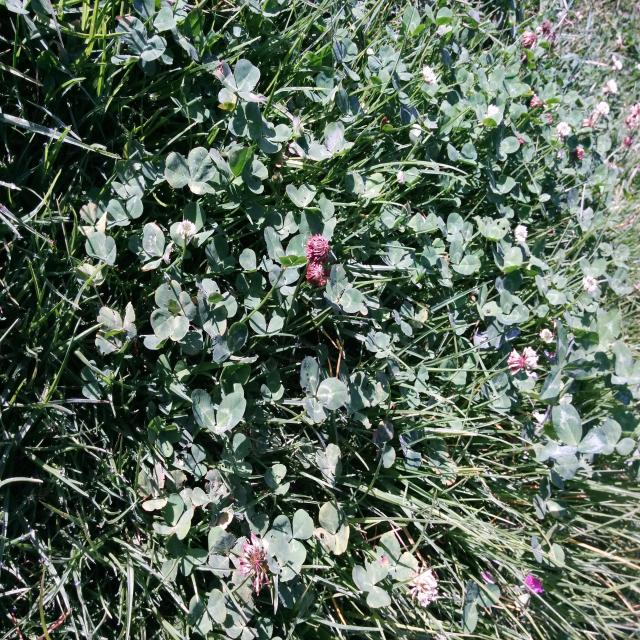Four Leaf Clover: (150, 279, 195, 341)
